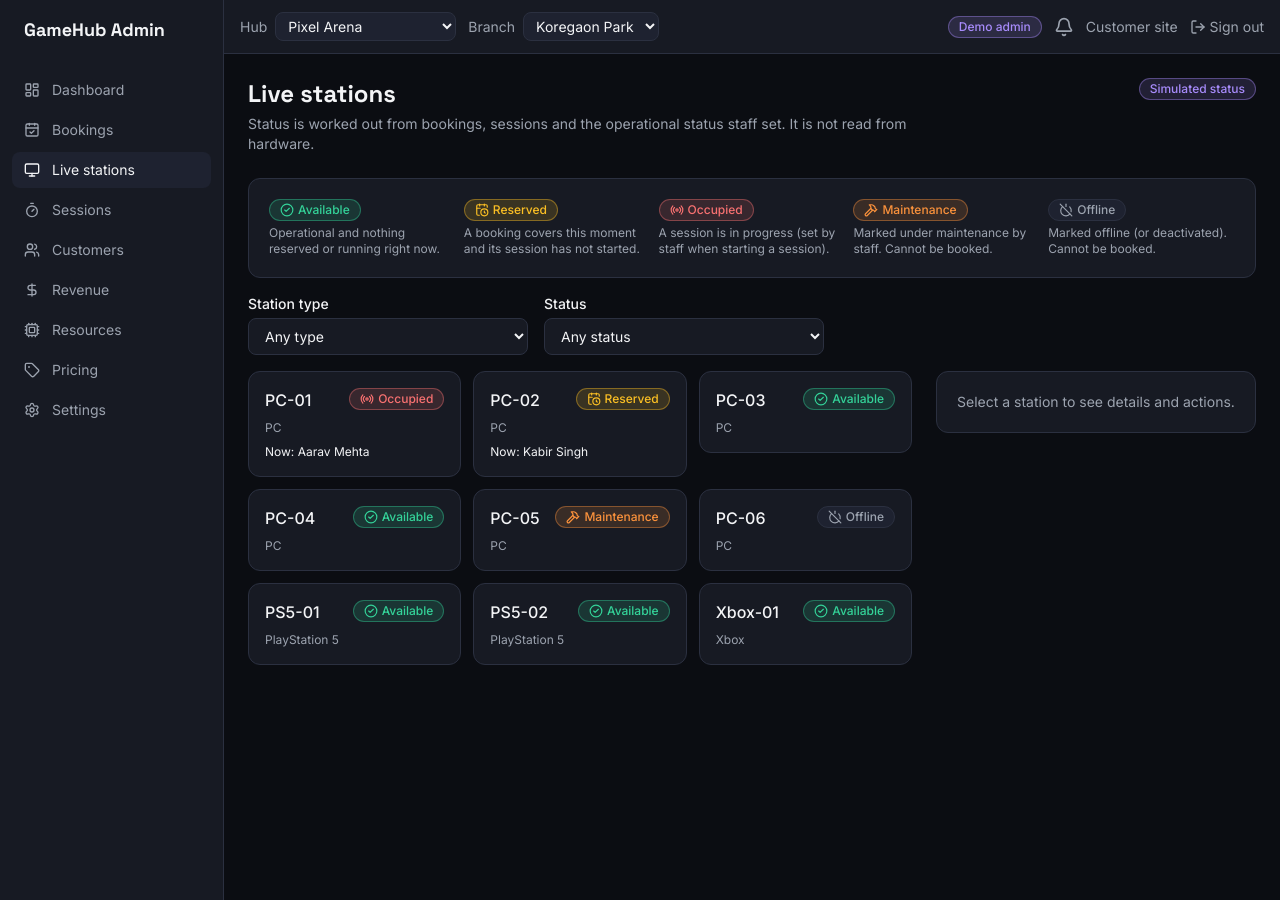
Live stations › warns and lists the bookings instead of silently dropping them
What coordinates should you click on to do the following:
click the button "PC-01 Occupied PC Now: Aarav Mehta"
I would click on:
 (355, 424)
Its box is [248,371,461,477].
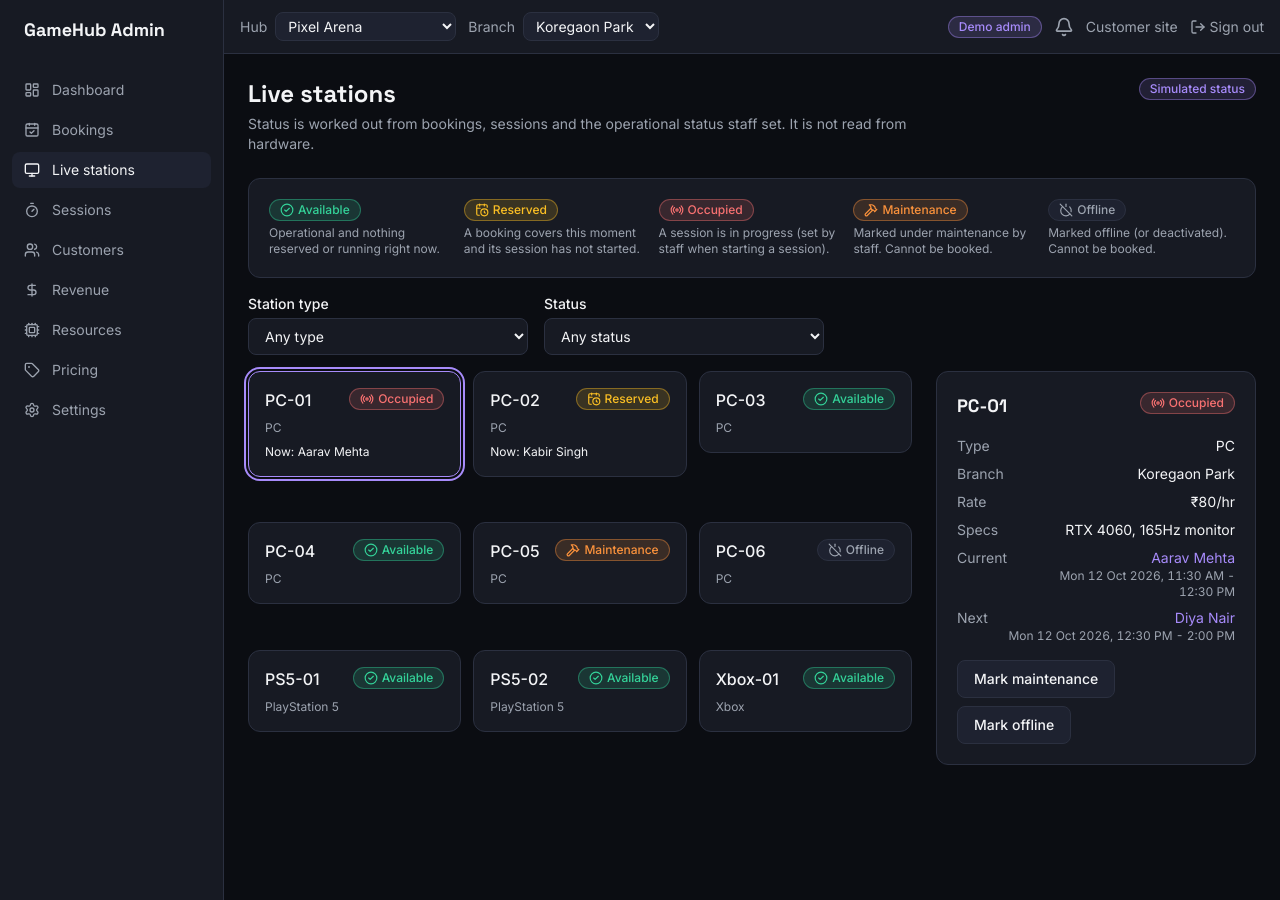
What coordinates should you click on to do the following:
click the button "Mark maintenance"
I would click on:
 (1036, 679)
Its box is [957,660,1115,698].
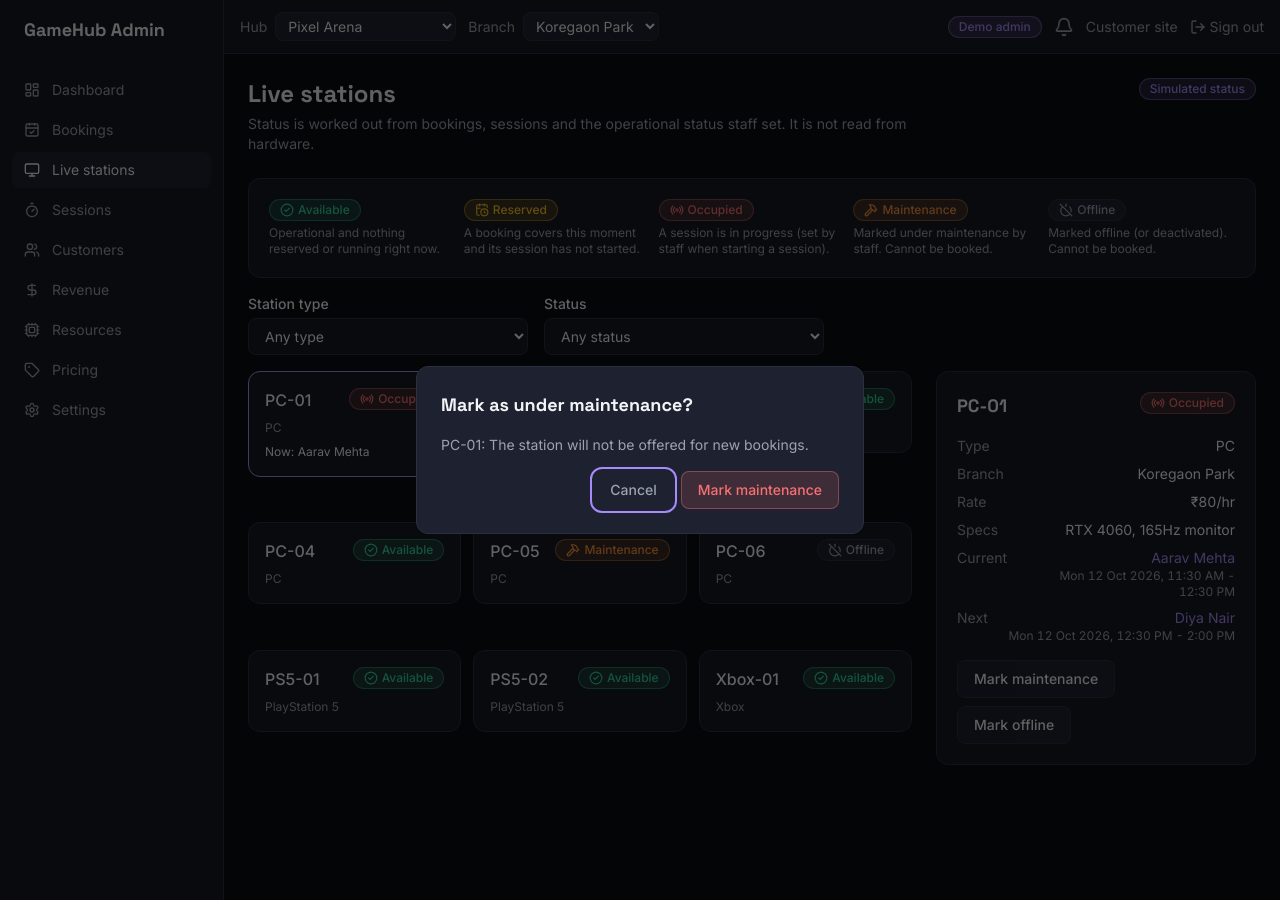
What coordinates should you click on to do the following:
click the button "Mark maintenance"
I would click on:
 (760, 490)
Its box is [681,471,839,509].
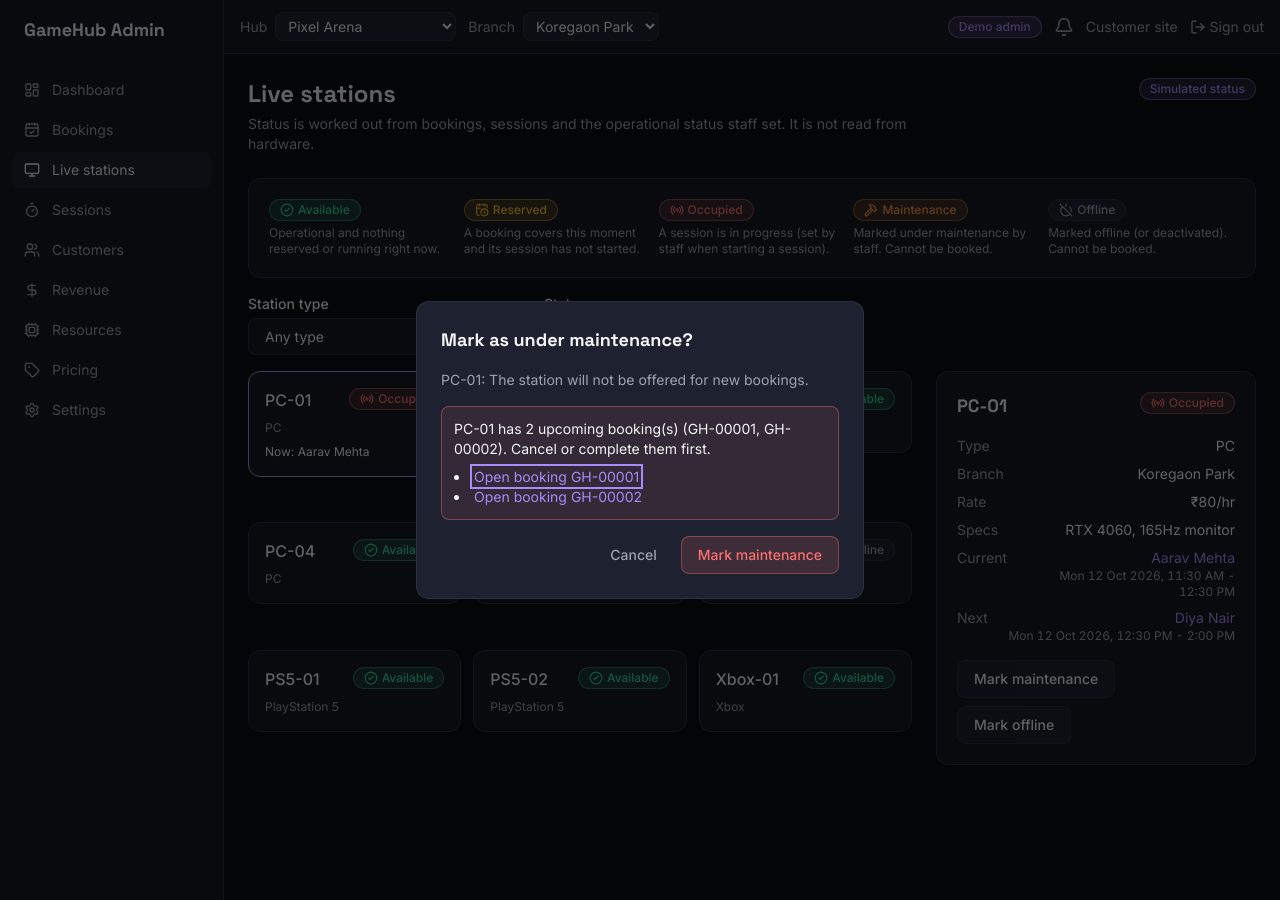
Expected: the message shows "upcoming booking", [454,420,791,457]
Expected: the link "Open booking GH-00001" is shown, [474,468,639,485]
